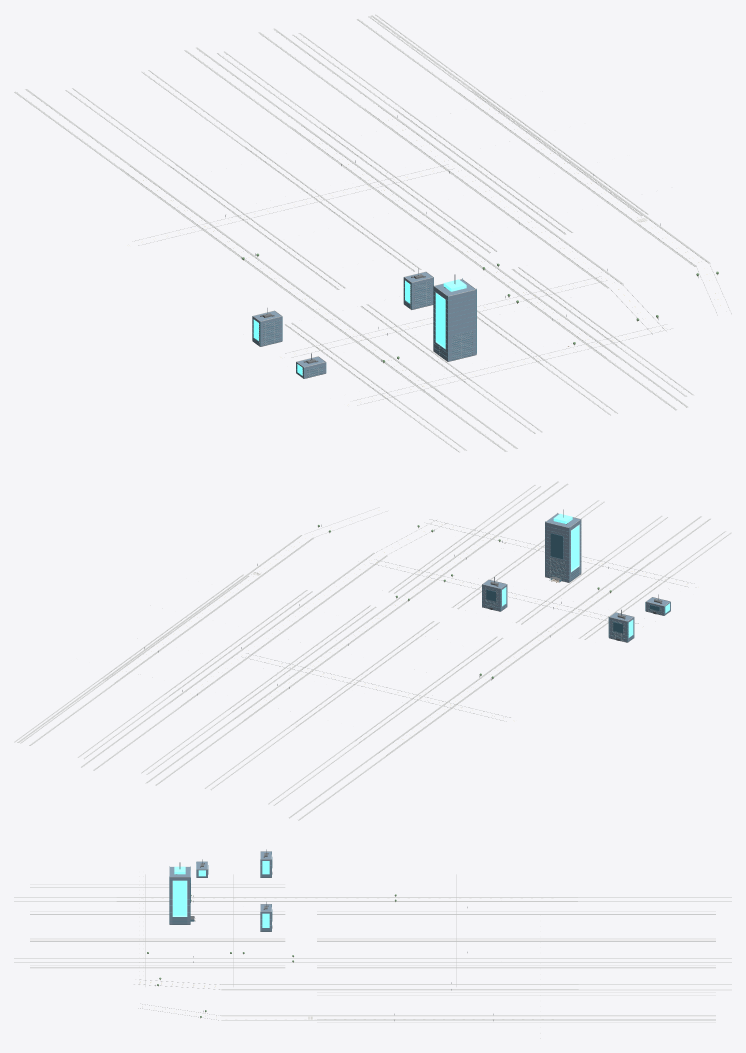
File: detail-sector-e.glb
3 views of the same model, one above another, from view 1: azimuth 30°, elevation 25°; view 2: azimuth 150°, elevation 25°; view 3: azimuth 270°, elevation 25° (orthographic). The views are drawn at different scales.
Parts seen in each view (by area): view 1: trim_light, curb, facade_tech, v4_arch_e_arch_tech, v4_arch_e_arch_neon_cyan, glass_blue; view 2: trim_light, curb, facade_tech, v4_arch_e_arch_neon_cyan, v4_arch_e_arch_tech, v4_arch_e_arch_glass, glass_blue; view 3: trim_light, road_white, curb, facade_tech, v4_arch_e_arch_neon_cyan.
Boxes of the visible parts, x1,y1,x2,y2 form: trim_light: [14, 14, 710, 452]; curb: [122, 90, 731, 405]; facade_tech: [252, 272, 476, 378]; v4_arch_e_arch_tech: [252, 277, 476, 378]; v4_arch_e_arch_neon_cyan: [253, 279, 466, 375]; glass_blue: [254, 281, 472, 377]; trim_light: [14, 481, 731, 820]; curb: [102, 507, 694, 755]; facade_tech: [482, 513, 670, 642]; v4_arch_e_arch_neon_cyan: [502, 513, 669, 637]; v4_arch_e_arch_tech: [482, 519, 670, 642]; v4_arch_e_arch_glass: [486, 533, 659, 633]; glass_blue: [484, 558, 669, 641]; trim_light: [14, 851, 731, 1022]; road_white: [30, 876, 715, 1038]; curb: [117, 874, 578, 1020]; facade_tech: [169, 851, 271, 931]; v4_arch_e_arch_neon_cyan: [173, 861, 269, 927].
Bounding box in the file's own units: 1254 × 199 × 2250.
